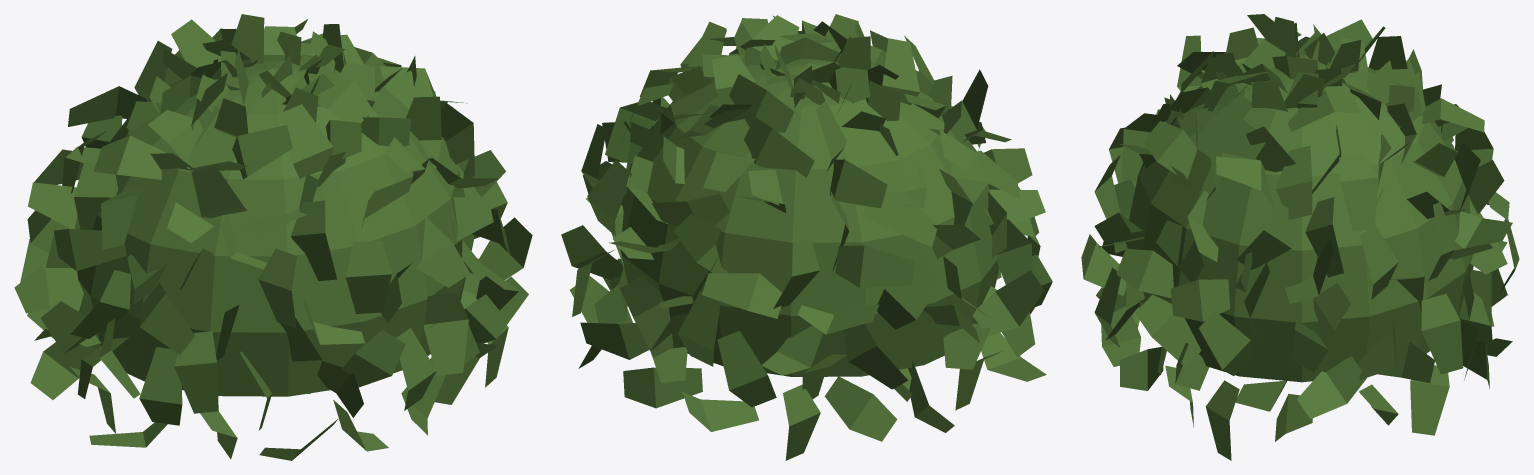
File: BushGrow.fbx
3 views of the same model, side by side, from view 1: azimuth 30°, elevation 25°; view 2: azimuth 150°, elevation 25°; view 3: azimuth 270°, elevation 25° (orthographic). The views are drawn at different scales.
Visible parts, largest first — view 1: Bush; view 2: Bush; view 3: Bush.
Part boxes in pixels (x1=…): Bush: x1=14, y1=14, x2=532, y2=460; Bush: x1=561, y1=14, x2=1052, y2=460; Bush: x1=1081, y1=14, x2=1519, y2=460.
Bounding box in the file's own units: 311 × 231 × 270.
